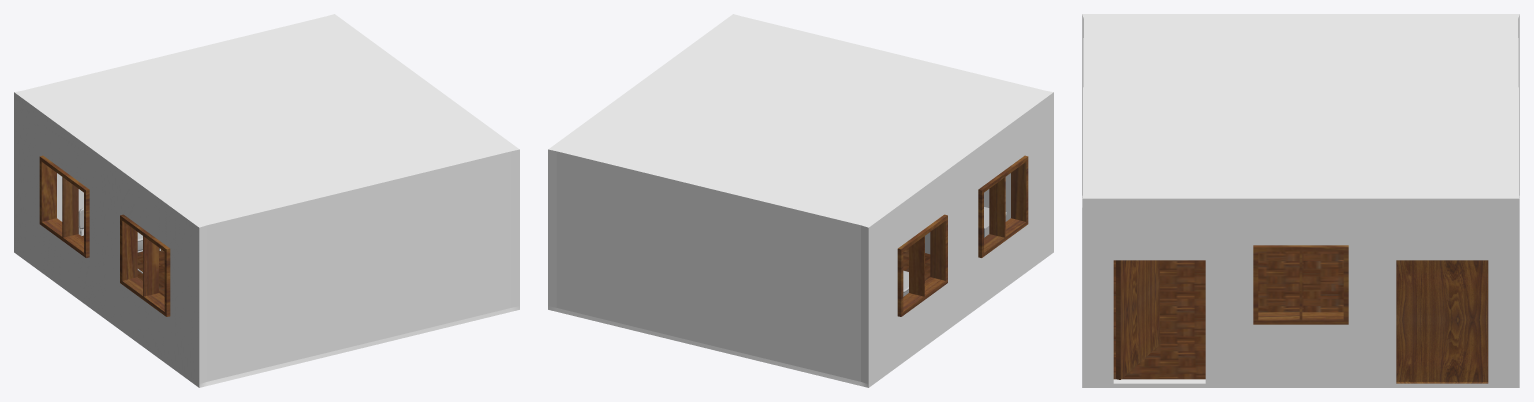
File: newclassroom.fbx
3 renders of one model, left to right at view 1: azimuth 30°, elevation 25°; view 2: azimuth 150°, elevation 25°; view 3: azimuth 270°, elevation 25°, orthographic. The views are drawn at different scales.
Parts seen in each view (by area): view 1: Classroom; view 2: Classroom; view 3: Classroom.
Part boxes in pixels (left/top/right/bottom): Classroom: left=14, top=14, right=519, bottom=387; Classroom: left=548, top=14, right=1053, bottom=387; Classroom: left=1082, top=14, right=1519, bottom=387.
Size of the model in its own units: 920 by 433 by 900.
